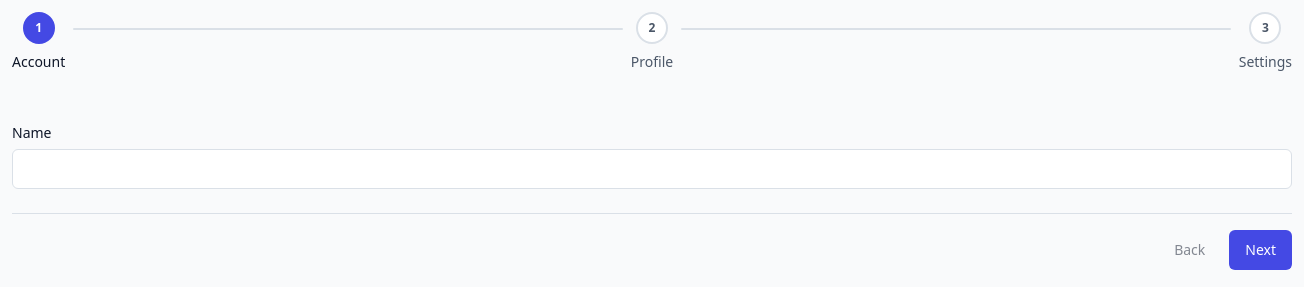
FormWizard — navigation › Enter on a focused (visited) indicator activates it
The image size is (1304, 287).
Step 1. Type "Ada" into the field labelled "Name" → (652, 169), box x1=12 y1=149 x2=1292 y2=189
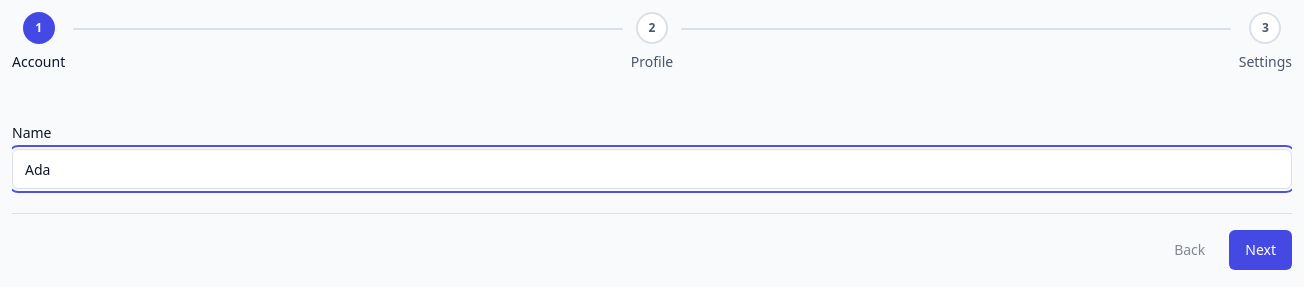
Step 2. Click the button with test id "wizard-next" → click(1261, 250), box x1=1229 y1=230 x2=1292 y2=270
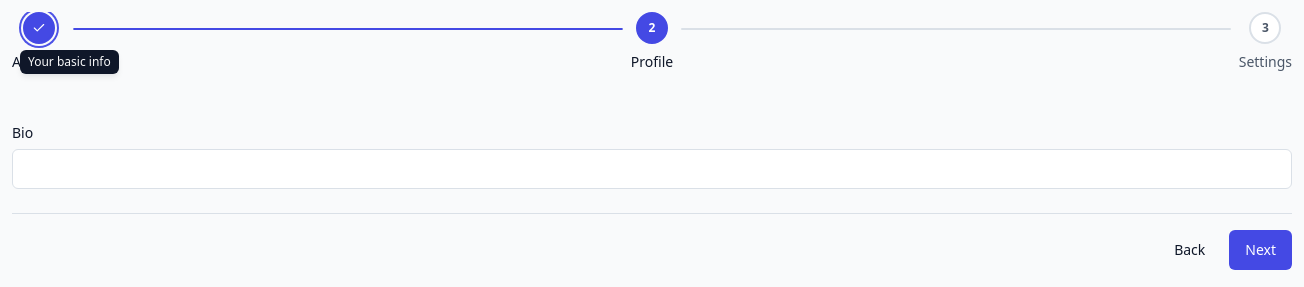
Step 3. Press Enter
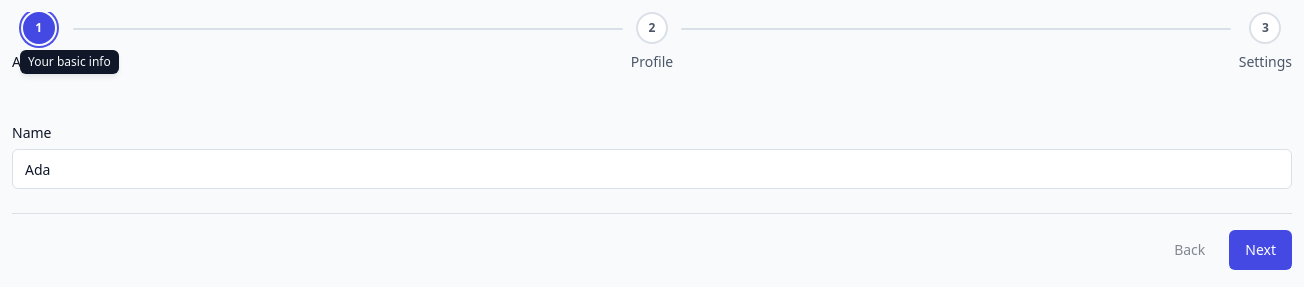
Check: the field labelled "Name" is shown, box x1=12 y1=149 x2=1292 y2=189
